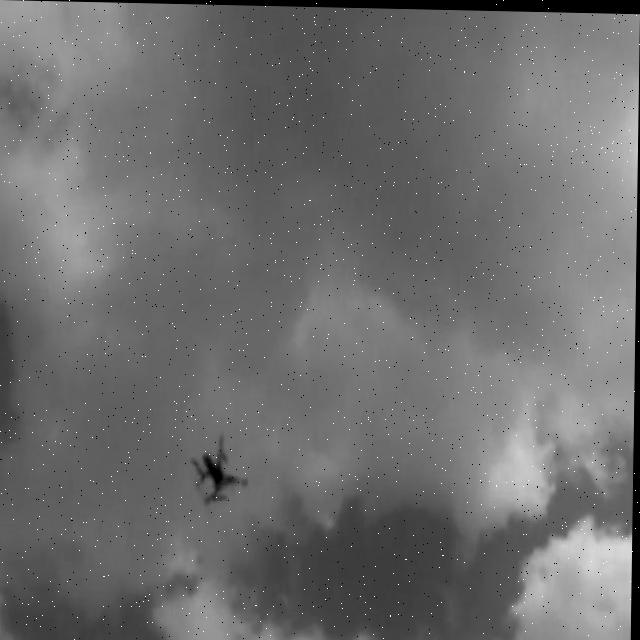drone: (191, 428, 255, 506)
